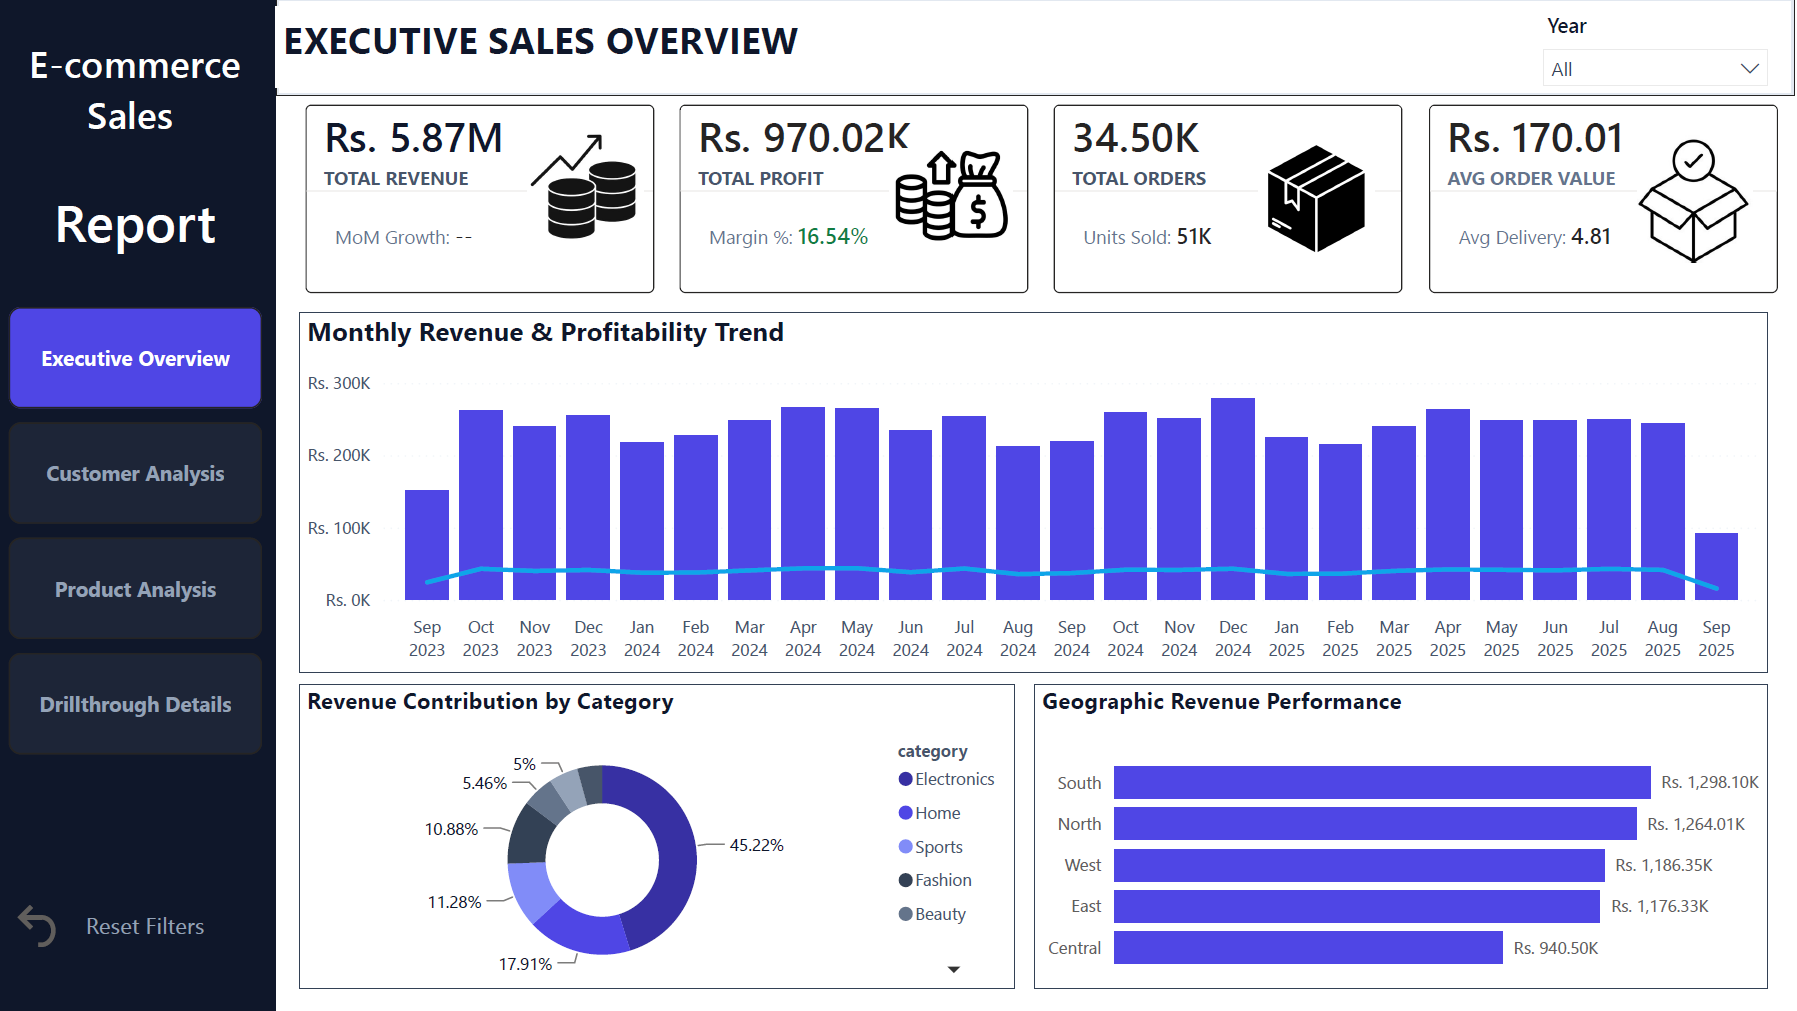

The dashboard page shown, as its layout file describes it:
{"tool":"powerbi","page":{"name":"Executive Overview ","canvas":[1280,720],"ordinal":0},"visuals":[{"type":"shape","box":[0,0,200,720],"z":0},{"type":"pageNavigator","box":[10,220,180,320],"z":1000},{"type":"actionButton","box":[10,640,100,40],"z":2000},{"type":"textbox","box":[59.9,644.4,100.3,35.5],"z":3000},{"type":"shape","box":[200,0,1080,70],"z":4000},{"type":"textbox","box":[200,5.8,401,57.8],"z":5000},{"type":"cardVisual","fields":{"Data":["_Measures.Total Revenue"]},"box":[208.8,63.6,272.5,158.8],"z":6000},{"type":"cardVisual","fields":{"Data":["_Measures.Total Profit"]},"box":[475.3,63.6,272,158.8],"z":7000},{"type":"cardVisual","fields":{"Data":["_Measures.Total Orders"]},"box":[741.4,63.9,272,158],"z":8000},{"type":"cardVisual","fields":{"Data":["_Measures.Average Order Value"]},"box":[1007.5,63.9,272,158],"z":9000},{"type":"lineStackedColumnComboChart","title":"Monthly Revenue & Profitability Trend","fields":{"Category":["Dim_Calendar.MonthYear"],"Y":["_Measures.Total Revenue"],"Y2":["_Measures.Total Profit"]},"box":[216,222.5,1045,257.5],"z":10000},{"type":"donutChart","title":"Revenue Contribution by Category","fields":{"Category":["Dim_Product.category"],"Y":["_Measures.Total Revenue"]},"box":[216,488,510,217],"z":11000},{"type":"clusteredBarChart","title":"Geographic Revenue Performance","fields":{"Category":["Dim_Location.region"],"Y":["_Measures.Total Revenue"]},"box":[738.5,487.5,522.5,217.5],"z":12000},{"type":"slicer","fields":{"Values":["Dim_Calendar.Year"]},"box":[1090.8,3.7,180,63.8],"z":13000},{"type":"image","box":[379.1,69.7,81.9,128.4],"z":14000},{"type":"image","box":[635.9,22,88,242.1],"z":15000},{"type":"image","box":[898.8,26.9,81.9,232.3],"z":16000},{"type":"image","box":[1155.6,97.8,106.4,90.5],"z":17000},{"type":"textbox","box":[9.8,6.1,179.8,192],"z":18000}]}

Visuals, with their boxes on the page's 1280x720 design canvas (x1, y1, x2, y2). These are canvas units, not pixel positions in the 1797x1011 screenshot, which may show the page scaled, cropped or inside an application window:
shape: bbox=(0, 0, 200, 720)
pageNavigator: bbox=(10, 220, 190, 540)
actionButton: bbox=(10, 640, 110, 680)
textbox: bbox=(60, 644, 160, 680)
shape: bbox=(200, 0, 1280, 70)
textbox: bbox=(200, 6, 601, 64)
cardVisual - _Measures.Total Revenue: bbox=(209, 64, 481, 222)
cardVisual - _Measures.Total Profit: bbox=(475, 64, 747, 222)
cardVisual - _Measures.Total Orders: bbox=(741, 64, 1013, 222)
cardVisual - _Measures.Average Order Value: bbox=(1008, 64, 1280, 222)
"Monthly Revenue & Profitability Trend" lineStackedColumnComboChart: bbox=(216, 222, 1261, 480)
"Revenue Contribution by Category" donutChart: bbox=(216, 488, 726, 705)
"Geographic Revenue Performance" clusteredBarChart: bbox=(738, 488, 1261, 705)
slicer - Dim_Calendar.Year: bbox=(1091, 4, 1271, 68)
image: bbox=(379, 70, 461, 198)
image: bbox=(636, 22, 724, 264)
image: bbox=(899, 27, 981, 259)
image: bbox=(1156, 98, 1262, 188)
textbox: bbox=(10, 6, 190, 198)
